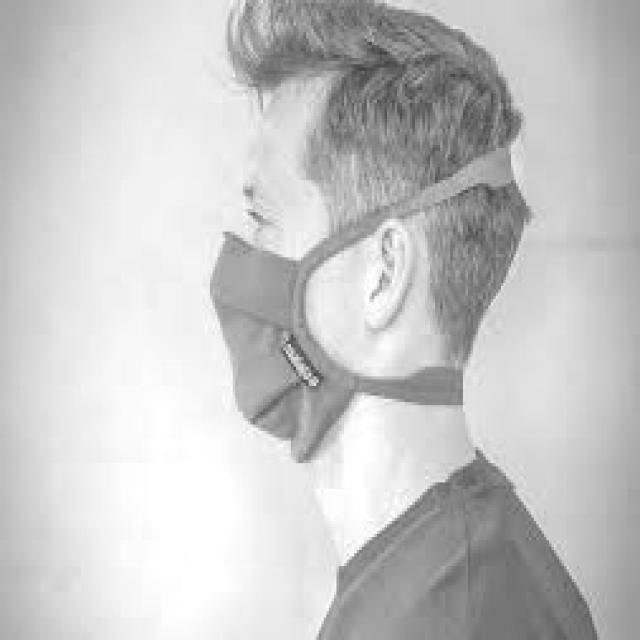fake: (194, 196, 415, 464)
real: (196, 80, 338, 473)
